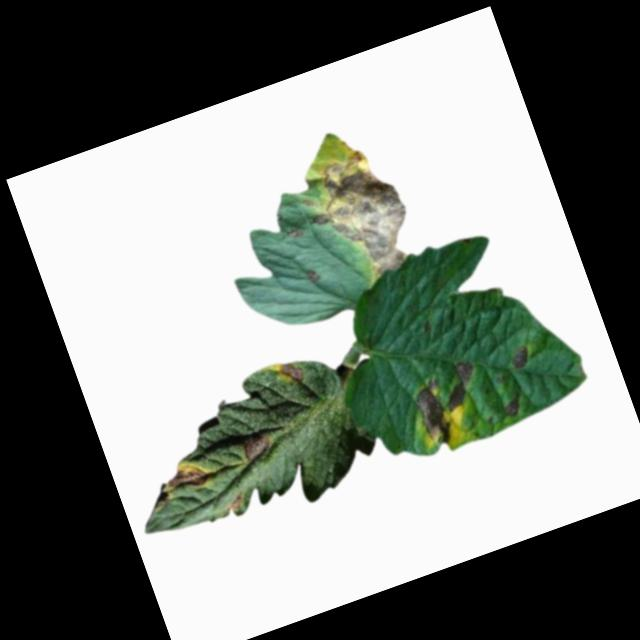Early_blight: (294, 141, 426, 294), (405, 357, 495, 447), (162, 455, 217, 498), (237, 428, 279, 467), (278, 358, 308, 389), (502, 394, 529, 419), (509, 347, 534, 371), (224, 491, 247, 514), (287, 224, 308, 244), (304, 267, 323, 288)
